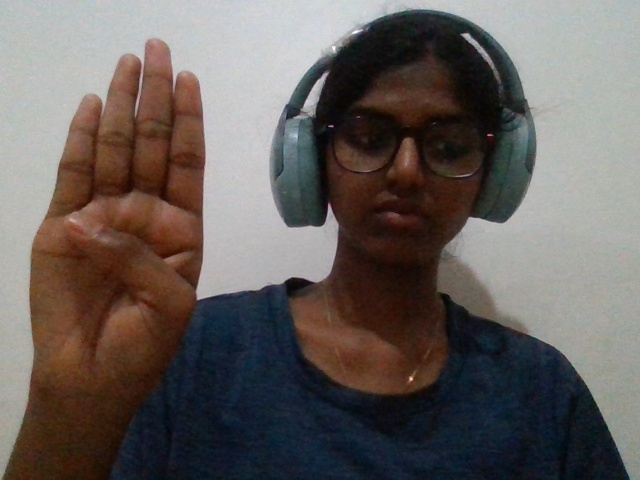B: (9, 23, 233, 456)
